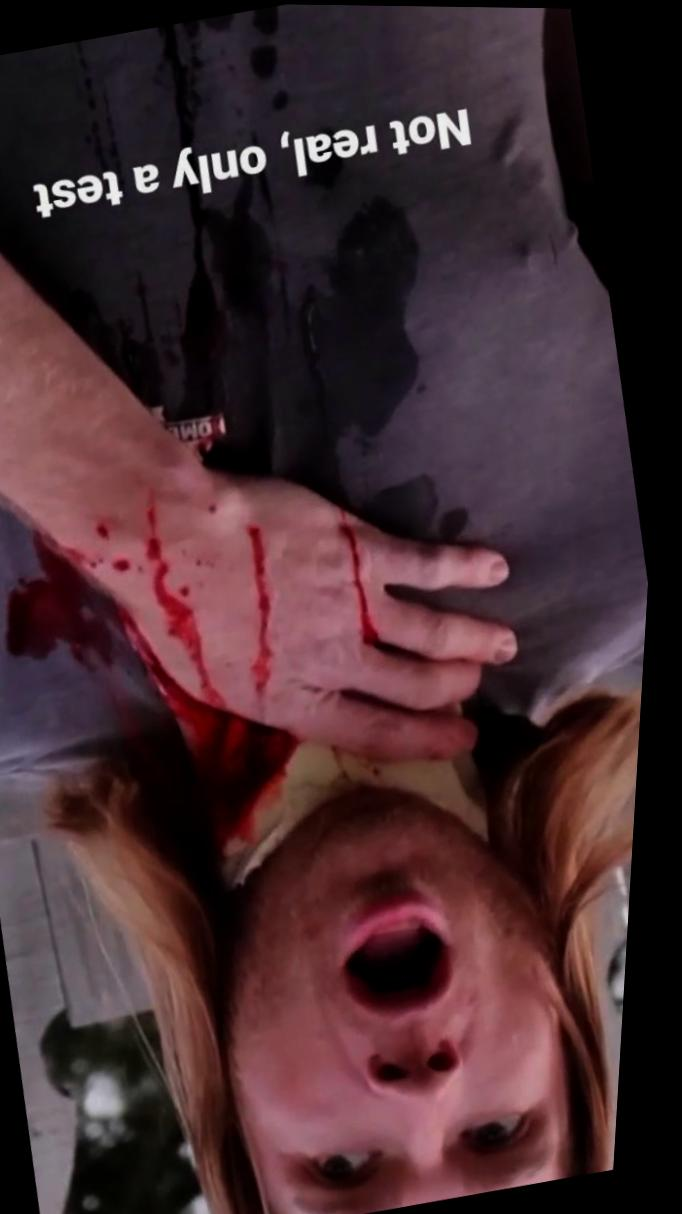Fire: (70, 443, 390, 730), (15, 534, 308, 844)
